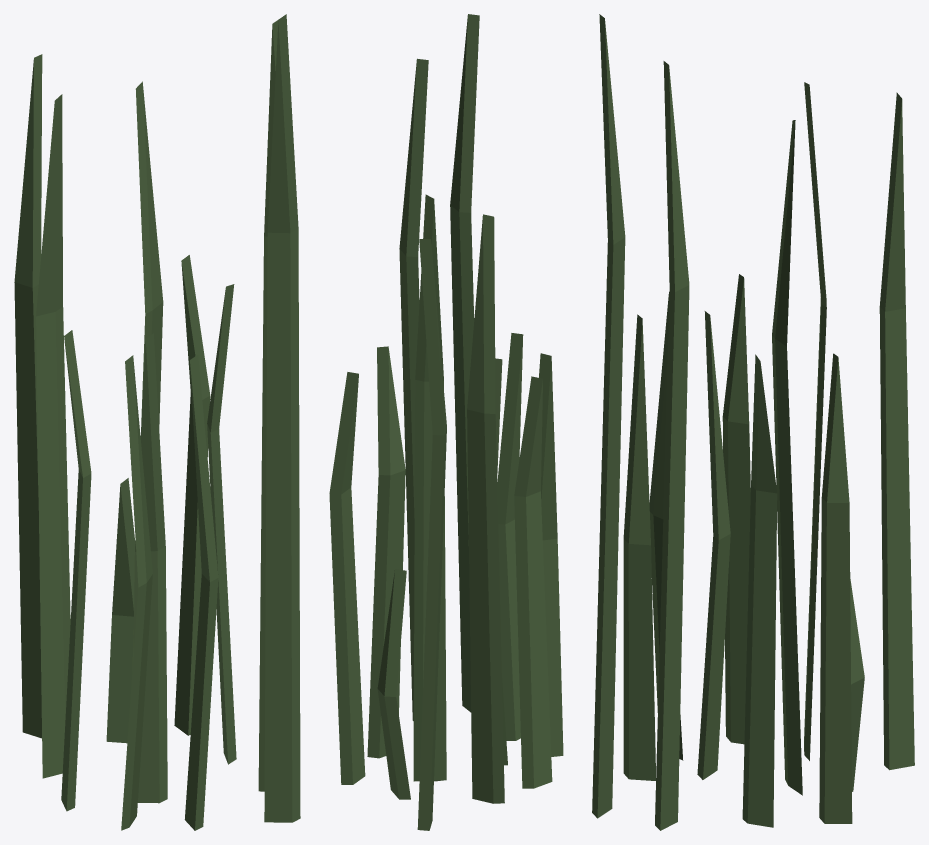
Rendered from Blends_Grass_2.glb.
3 renders of one model, left to right at view 1: azimuth 30°, elevation 25°; view 2: azimuth 150°, elevation 25°; view 3: azimuth 270°, elevation 25°, orthographic. The views are drawn at different scales.
Parts seen in each view (by area): view 1: Grass_2; view 2: Grass_2; view 3: Grass_2.
Boxes of the visible parts, x1,y1,x2,y2 form: Grass_2: [14, 14, 300, 830]; Grass_2: [329, 14, 563, 830]; Grass_2: [592, 14, 914, 830].
Bounding box in the file's own units: 0.3162 × 1.2 × 0.4417.
